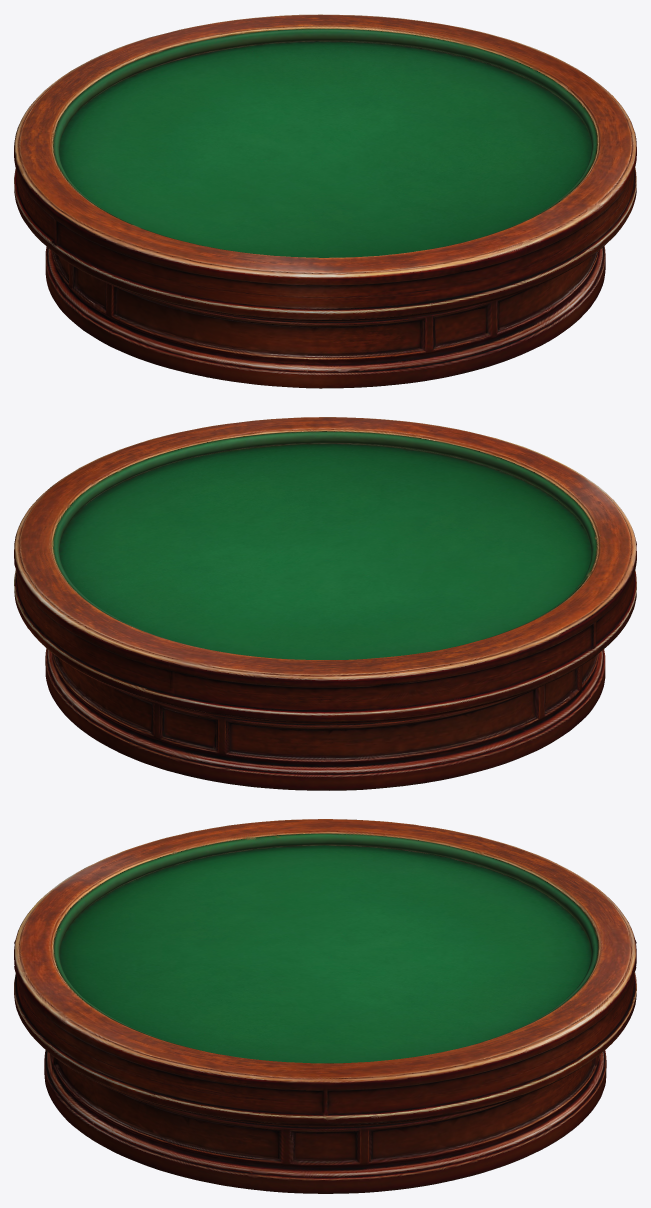
Rendered from Ogtable.glb.
The picture shows the model from 3 angles, top to bottom: view 1: azimuth 30°, elevation 25°; view 2: azimuth 150°, elevation 25°; view 3: azimuth 270°, elevation 25°; orthographic projection.
Visible parts, largest first — view 1: tripo_node_0fb76c95-fdd2-4835-b41f-9486fad991ef; view 2: tripo_node_0fb76c95-fdd2-4835-b41f-9486fad991ef; view 3: tripo_node_0fb76c95-fdd2-4835-b41f-9486fad991ef.
Part boxes in pixels (left/top/right/bottom): tripo_node_0fb76c95-fdd2-4835-b41f-9486fad991ef: left=14, top=14, right=636, bottom=388; tripo_node_0fb76c95-fdd2-4835-b41f-9486fad991ef: left=14, top=417, right=636, bottom=790; tripo_node_0fb76c95-fdd2-4835-b41f-9486fad991ef: left=14, top=819, right=636, bottom=1193.
Size of the model in its own units: 1 by 0.2282 by 0.9955.
1 material, 1 textured.
